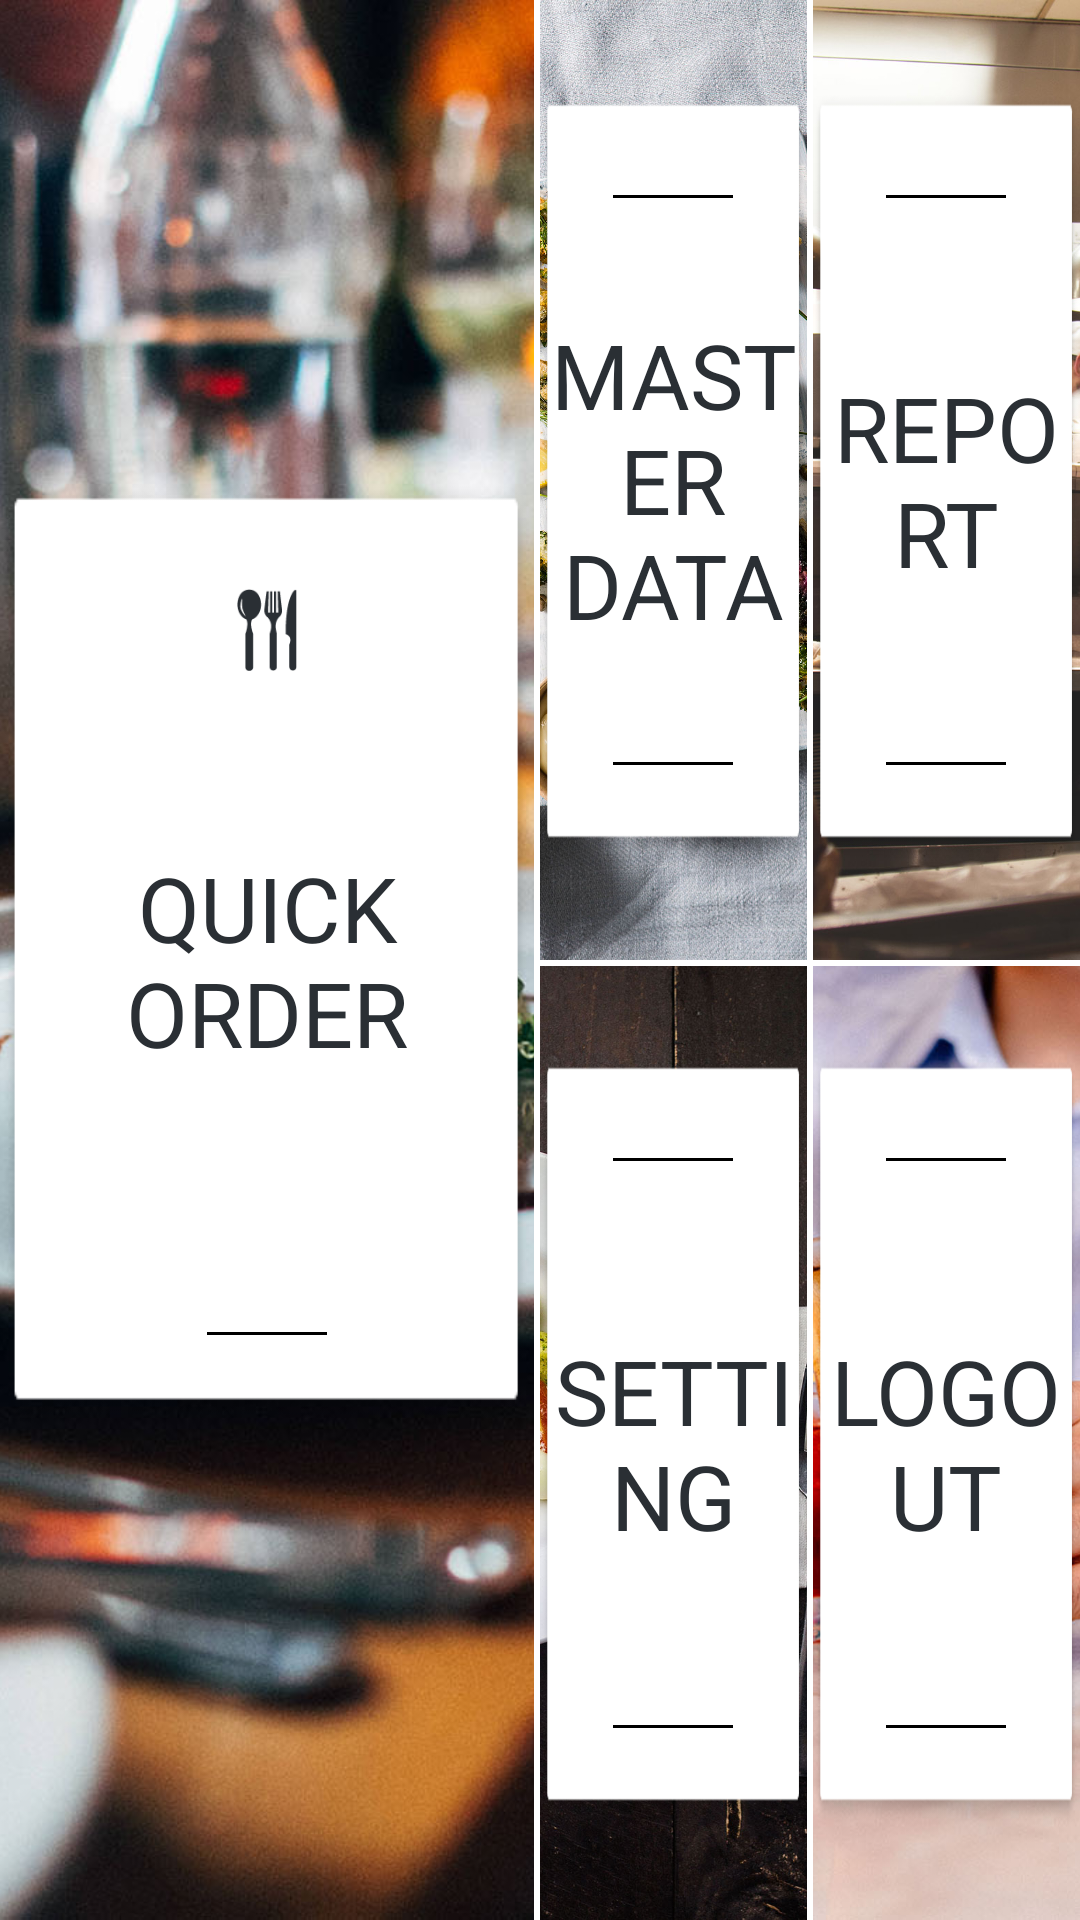

Point at icon controls on the screen. Image size 1080*1920, points as point (x, y).
sendok: point (267, 630)
